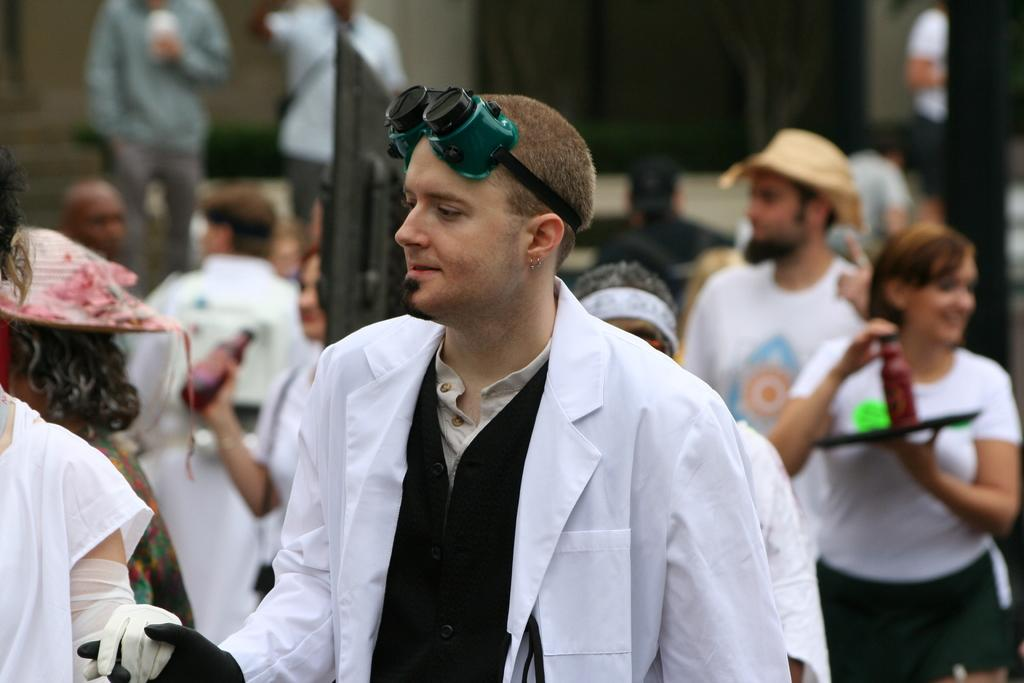Hat: (0, 228, 181, 331), (716, 120, 870, 233)
